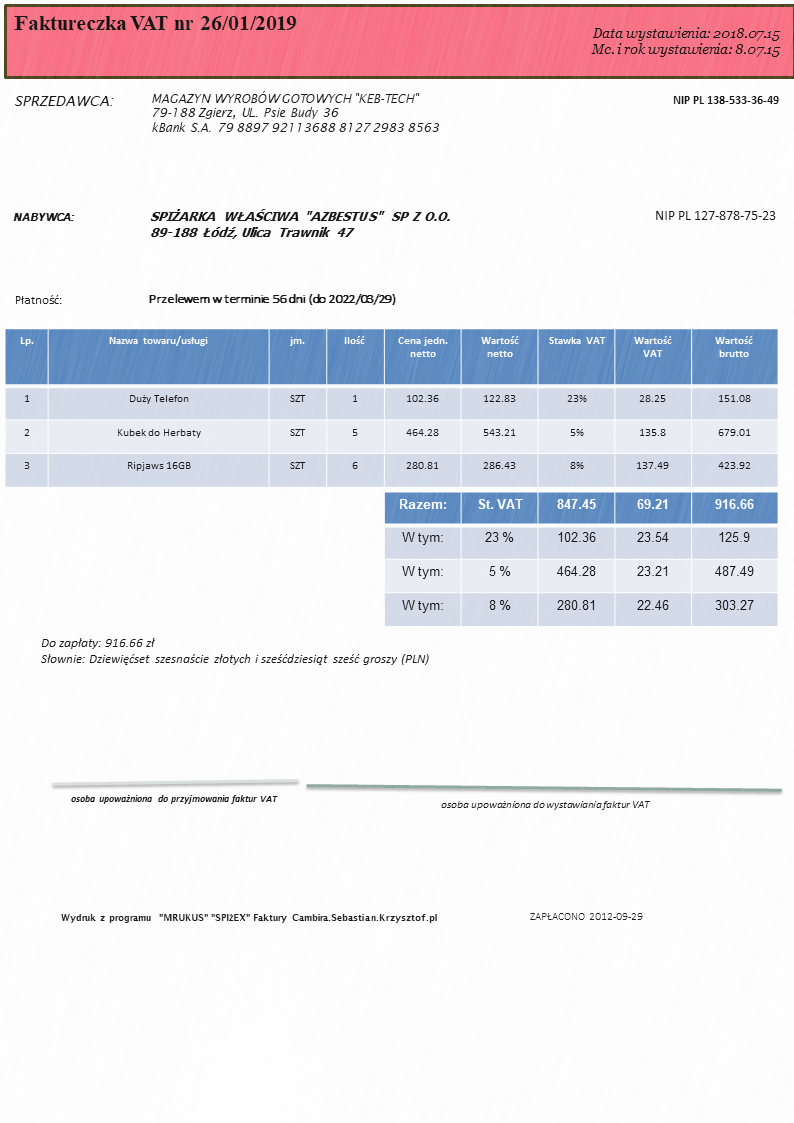Table: (3, 328, 780, 488), (384, 491, 779, 628)
TextBox: (148, 90, 441, 137), (38, 636, 431, 668), (148, 205, 454, 241), (58, 908, 440, 927), (589, 24, 782, 60), (12, 10, 299, 34), (146, 291, 396, 308), (436, 796, 652, 812), (68, 791, 280, 807), (650, 205, 775, 224), (669, 91, 781, 108), (527, 908, 644, 924), (11, 92, 114, 110), (10, 208, 74, 225), (12, 291, 65, 308)
